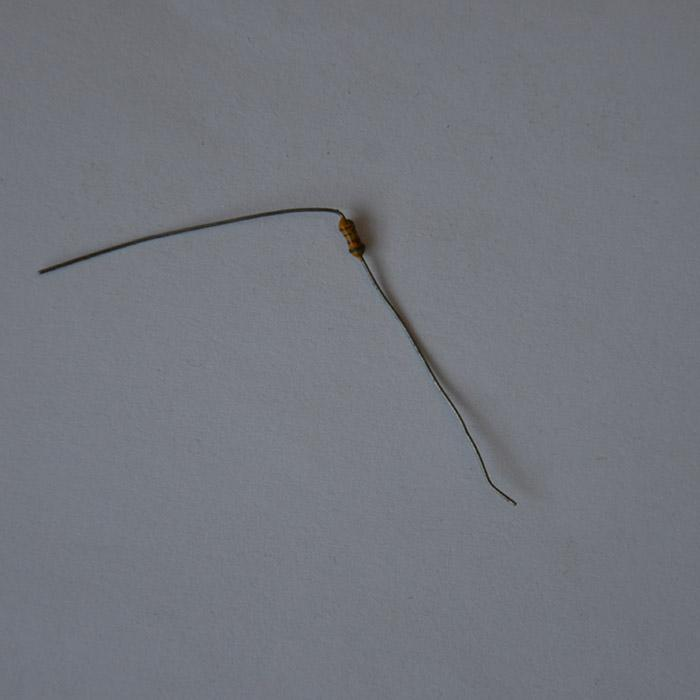resistor: (337, 216, 364, 258)
